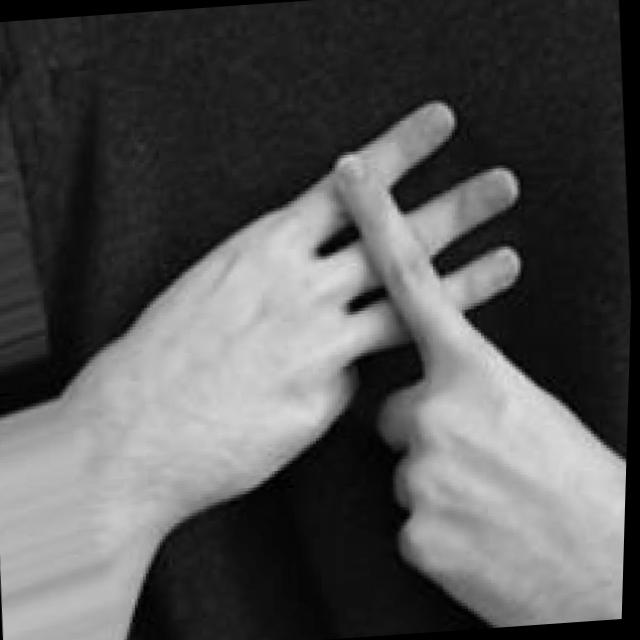E: (102, 79, 588, 640)
